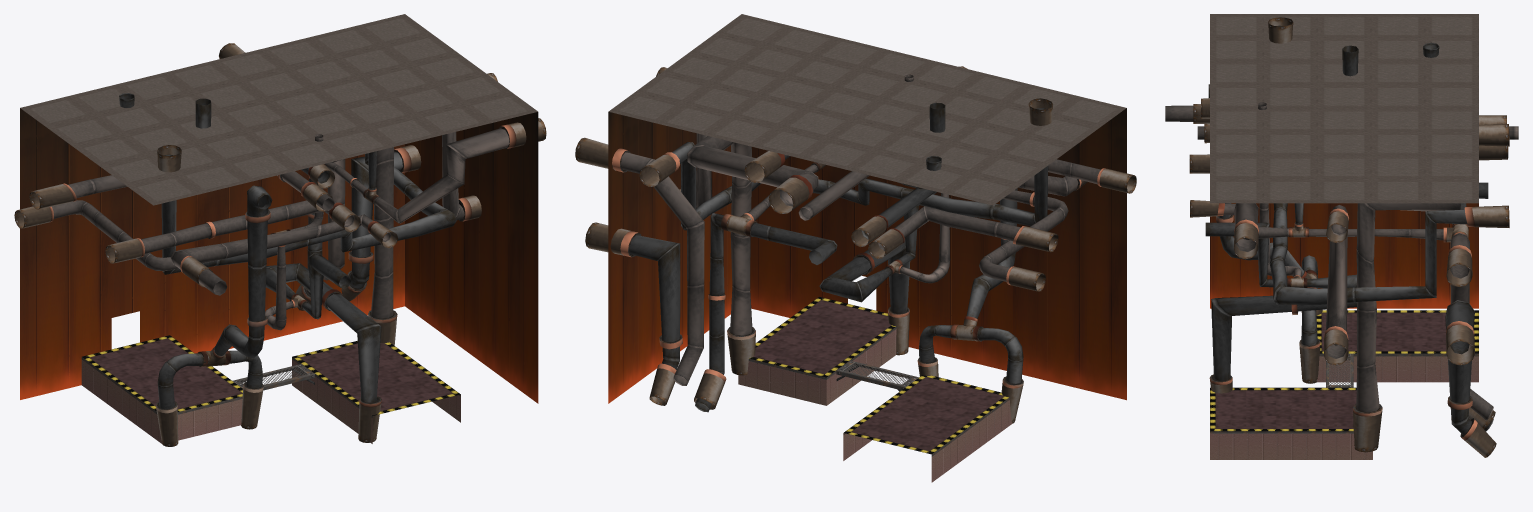
File: molten_small_bridge.fbx
3 views of the same model, side by side, from view 1: azimuth 30°, elevation 25°; view 2: azimuth 150°, elevation 25°; view 3: azimuth 270°, elevation 25° (orthographic).
Parts seen in each view (by area): view 1: Walls, Pipes, Floor, Bearings, Bridge; view 2: Walls, Pipes, Floor, Bearings, Bridge; view 3: Walls, Pipes, Floor, Bearings, Bridge.
Boxes of the visible parts, <box> form: Walls: <box>20,14,538,403</box>; Pipes: <box>52,93,509,409</box>; Floor: <box>81,335,460,444</box>; Bearings: <box>14,43,546,446</box>; Bridge: <box>232,364,314,390</box>; Walls: <box>608,14,1126,403</box>; Pipes: <box>621,74,1100,412</box>; Floor: <box>738,296,1012,482</box>; Bearings: <box>575,66,1136,423</box>; Bridge: <box>836,360,918,391</box>; Walls: <box>1210,14,1478,308</box>; Pipes: <box>1165,25,1518,434</box>; Floor: <box>1210,310,1478,459</box>; Bearings: <box>1189,17,1509,457</box>; Bridge: <box>1326,353,1353,387</box>.
Size of the model in its own units: 6361 by 4311 by 4334.
